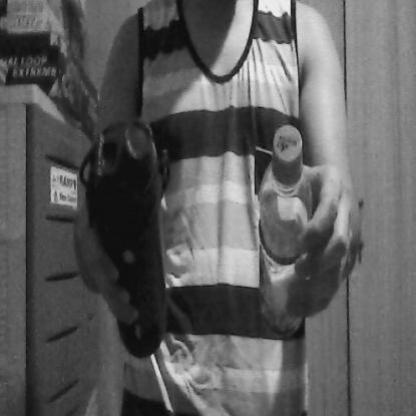Plastic Bottle: (255, 116, 315, 335)
